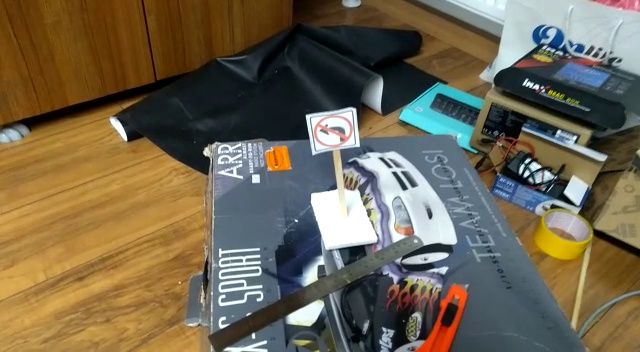sola_donulmez: (313, 110, 355, 154)
